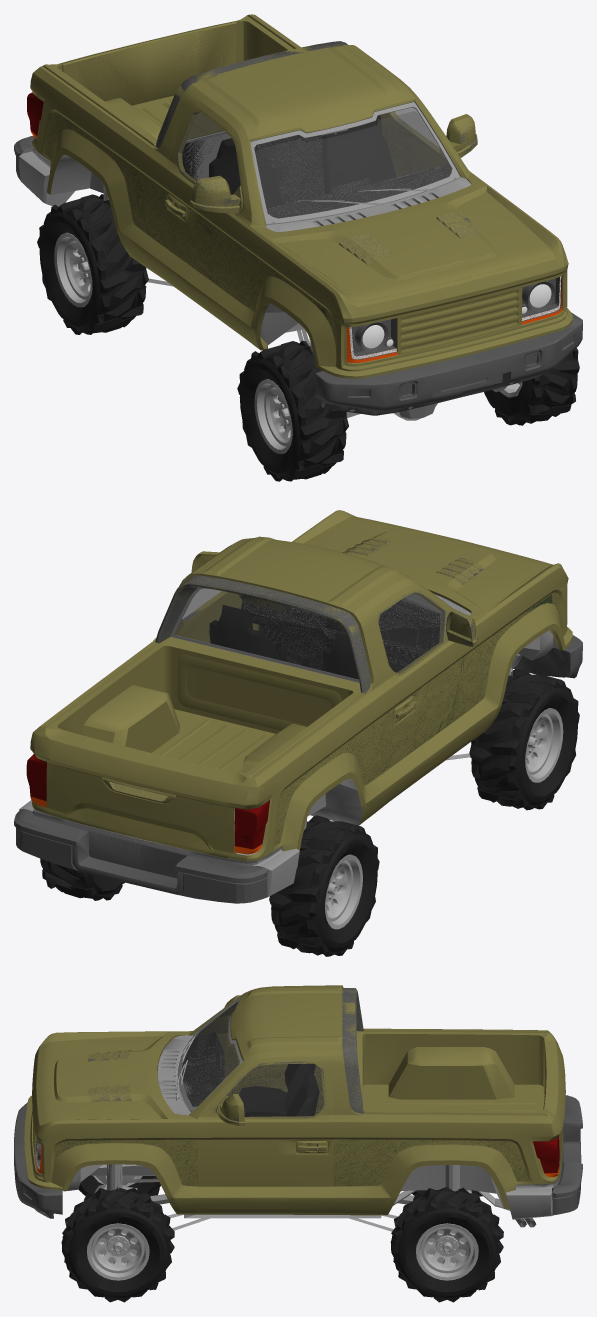
The model's file is Jeep.FBX.
3 views of the same model, one above another, from view 1: azimuth 30°, elevation 25°; view 2: azimuth 150°, elevation 25°; view 3: azimuth 270°, elevation 25° (orthographic). The views are drawn at different scales.
Parts seen in each view (by area): view 1: Body, Hood, Right Door, Windscreen, Interior, Wheel_RR, Wheel_FR, Front Bumper, Chassis, Trunk, Grill, Wheel_FL (+3 smaller); view 2: Body, Trunk, Right Door, Wheel_FR, Wheel_RR, Rear Bumper, Hood, Interior, Rear Window, Chassis, Left Door, Tail Lights (+2 smaller); view 3: Body, Left Door, Wheel_FL, Wheel_RL, Hood, Chassis, Interior, Windscreen, Rear Bumper, Right Door, Front Bumper, Trunk (+4 smaller).
Part boxes in pixels (left/top/right/bottom): Body: left=30, top=14, right=572, bottom=378; Hood: left=266, top=181, right=549, bottom=301; Right Door: left=155, top=99, right=251, bottom=332; Windscreen: left=254, top=107, right=455, bottom=223; Interior: left=182, top=115, right=451, bottom=218; Wheel_RR: left=37, top=194, right=148, bottom=334; Wheel_FR: left=237, top=340, right=348, bottom=481; Front Bumper: left=315, top=312, right=582, bottom=415; Chassis: left=19, top=101, right=471, bottom=351; Trunk: left=58, top=21, right=237, bottom=105; Grill: left=344, top=272, right=564, bottom=366; Wheel_FL: left=484, top=348, right=579, bottom=425; Body: left=30, top=510, right=572, bottom=867; Trunk: left=49, top=729, right=237, bottom=858; Right Door: left=370, top=585, right=482, bottom=790; Wheel_FR: left=469, top=668, right=579, bottom=810; Wheel_RR: left=269, top=815, right=379, bottom=956; Rear Bumper: left=14, top=808, right=267, bottom=903; Hood: left=305, top=517, right=549, bottom=615; Interior: left=209, top=600, right=440, bottom=679; Rear Window: left=170, top=587, right=359, bottom=682; Chassis: left=19, top=587, right=558, bottom=897; Left Door: left=175, top=551, right=258, bottom=642; Tail Lights: left=26, top=754, right=269, bottom=849; Body: left=24, top=985, right=562, bottom=1215; Left Door: left=198, top=1056, right=333, bottom=1208; Wheel_FL: left=61, top=1187, right=174, bottom=1302; Wheel_RL: left=390, top=1187, right=503, bottom=1302; Hood: left=39, top=1032, right=179, bottom=1122; Chassis: left=63, top=997, right=558, bottom=1219; Interior: left=182, top=1002, right=319, bottom=1116; Windscreen: left=181, top=1000, right=239, bottom=1111; Rear Bumper: left=552, top=1095, right=582, bottom=1215; Right Door: left=197, top=995, right=324, bottom=1114; Front Bumper: left=14, top=1102, right=62, bottom=1218; Trunk: left=543, top=1038, right=565, bottom=1172.
Size of the model in its own units: 253 by 244 by 535.
